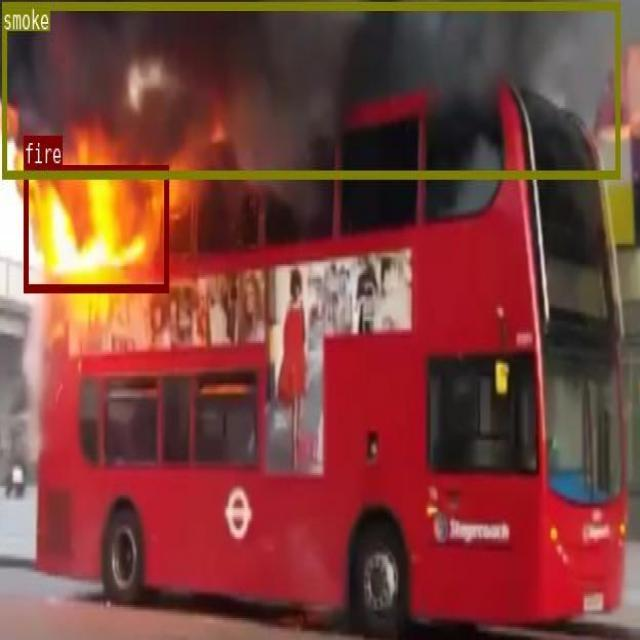fire: (23, 164, 168, 291)
smoke: (2, 1, 619, 176)
